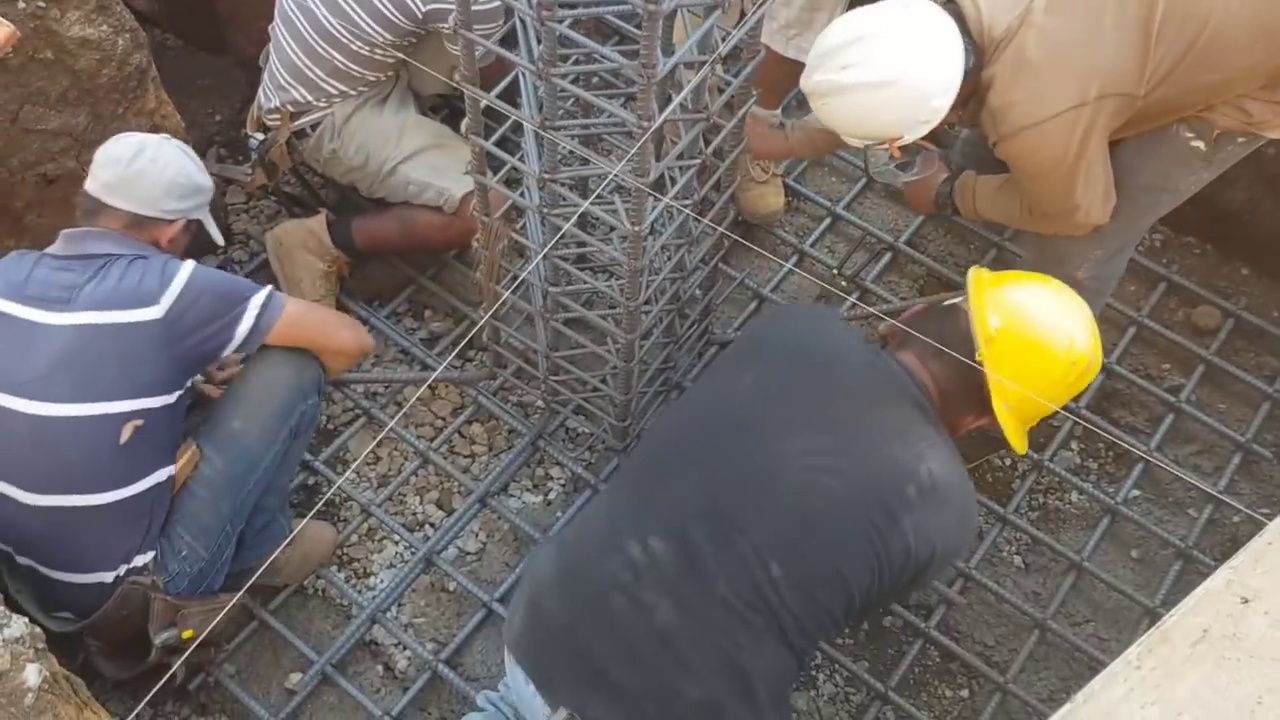helmet: (966, 266, 1112, 452), (800, 3, 970, 153)
helmet-off: (66, 126, 205, 263)
helmet-on: (882, 264, 1111, 452), (802, 2, 999, 162)
person: (478, 262, 1111, 716), (0, 120, 379, 698), (793, 0, 1280, 250), (244, 0, 526, 317)
